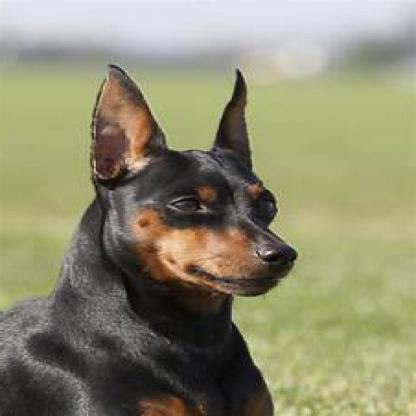dog: (2, 62, 298, 414)
